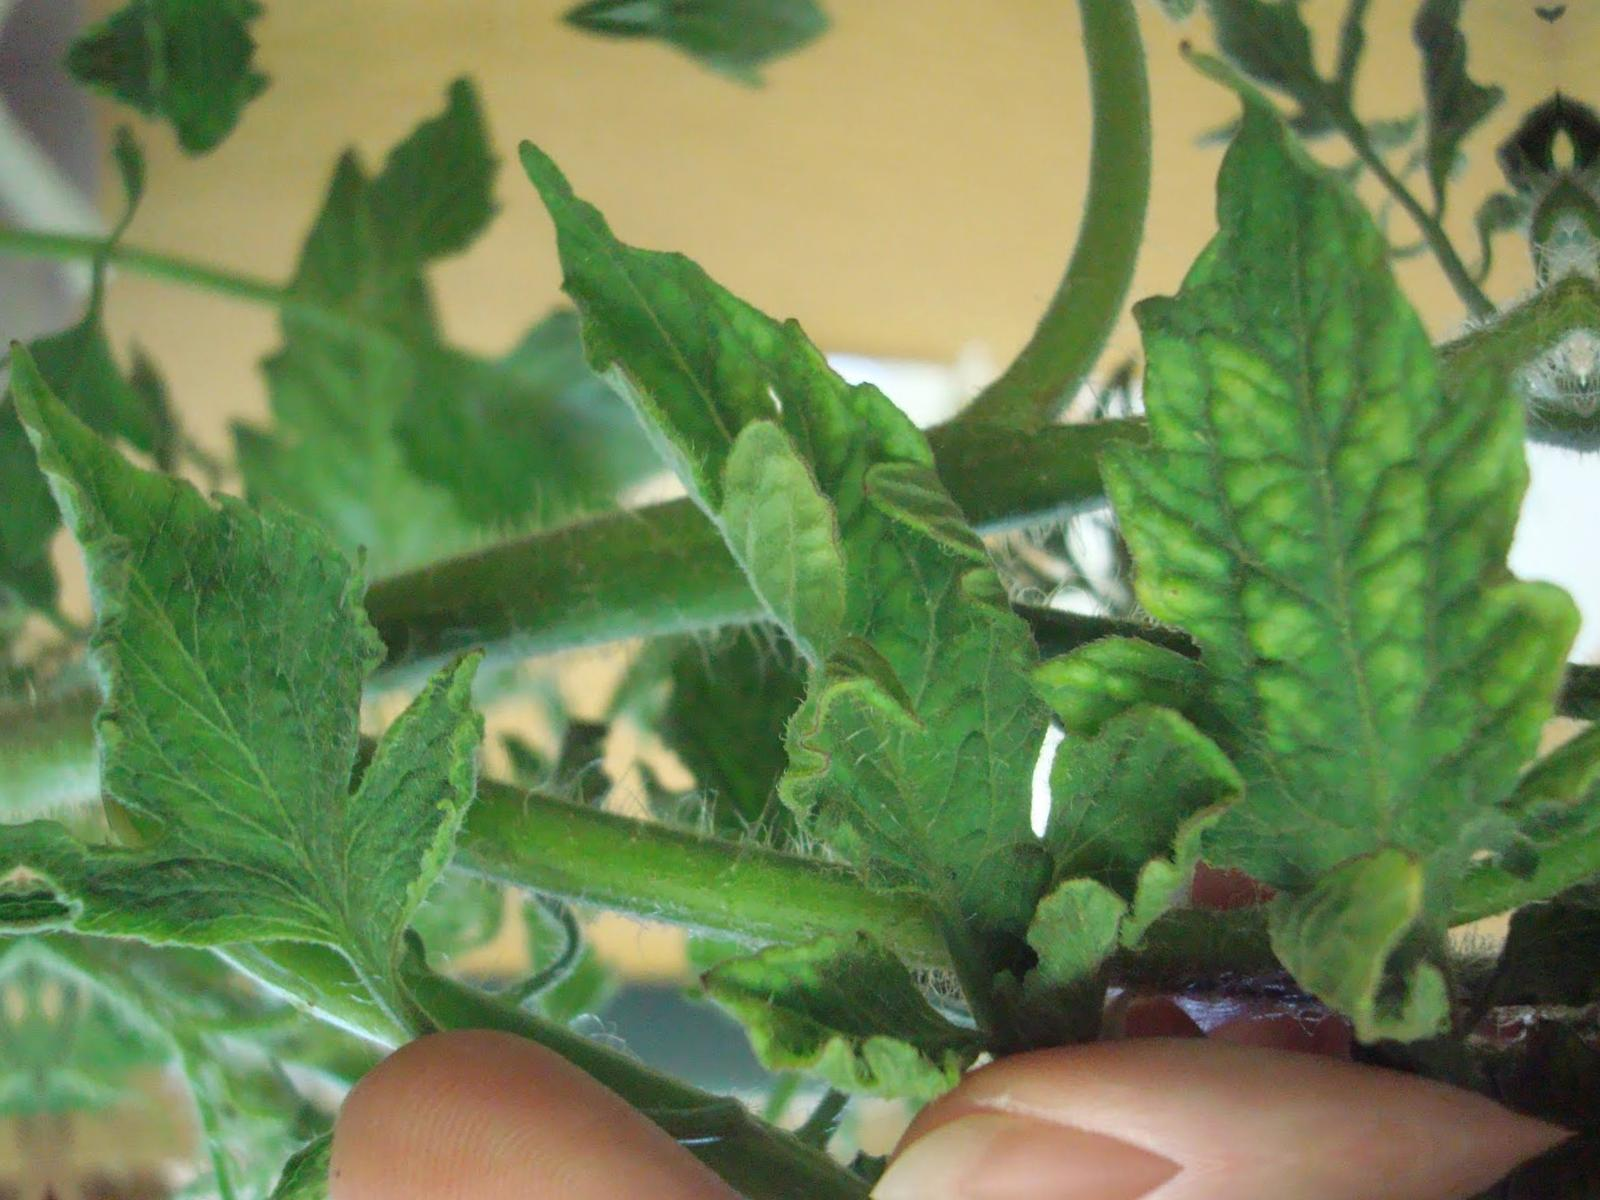Tomato leaf mosaic virus: (514, 83, 1247, 1013), (1018, 88, 1600, 973), (11, 316, 517, 991)
